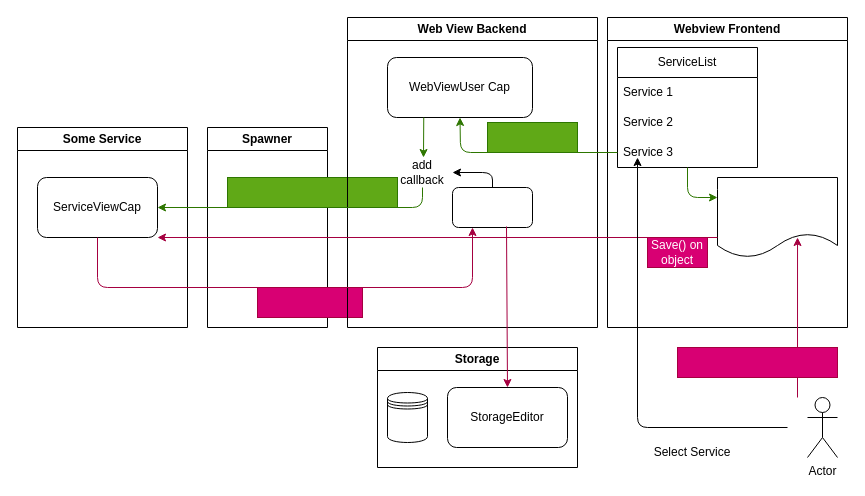
Image size: 865x496. Some labels were removed from this diagram. The shapes that lost their labels are listed below. From the top down, each one's centre as x and y in pixels, then its label:
(532,137): getServiceView()
(312,192): GetServiceView( callback )
(492,207): SaveCallback
(777,217): ServiceViewUI
(309,302): Save( Payload)
(757,362): Select/configure Object + Save()
